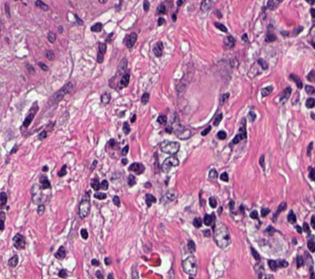nucleus: (48, 81, 74, 104), (213, 223, 230, 247), (160, 140, 179, 154), (79, 191, 89, 217), (182, 256, 196, 274), (174, 124, 190, 139), (162, 156, 178, 171), (273, 202, 285, 220), (118, 71, 129, 89), (289, 74, 302, 88), (125, 32, 136, 48), (97, 43, 106, 62), (280, 87, 291, 102), (117, 58, 126, 74), (129, 163, 143, 173), (153, 41, 162, 56), (224, 35, 234, 48), (40, 175, 50, 188), (55, 246, 65, 258), (261, 86, 272, 96), (101, 92, 110, 104), (146, 194, 155, 206), (257, 59, 267, 69), (208, 169, 217, 180), (204, 214, 213, 225), (213, 113, 221, 125), (91, 178, 99, 190), (251, 248, 259, 260), (265, 32, 275, 41), (45, 50, 54, 60), (268, 260, 277, 270), (47, 31, 55, 42), (58, 165, 66, 176), (127, 175, 135, 186), (287, 211, 295, 222), (94, 192, 106, 199), (157, 115, 166, 124), (201, 126, 210, 135), (265, 226, 274, 235), (38, 62, 48, 70), (193, 217, 201, 227), (307, 70, 314, 81), (188, 240, 195, 251), (296, 256, 303, 267), (276, 260, 287, 267), (258, 273, 273, 278), (305, 85, 313, 94), (217, 131, 226, 139), (220, 172, 228, 181), (141, 93, 148, 103), (306, 97, 313, 107), (121, 145, 128, 155), (209, 197, 216, 207), (37, 204, 44, 214), (80, 229, 87, 239), (123, 122, 129, 133), (308, 240, 314, 251), (307, 142, 312, 155), (58, 269, 66, 277), (248, 112, 255, 121), (39, 130, 46, 139), (100, 180, 107, 189), (309, 168, 314, 180), (113, 196, 119, 206), (303, 223, 309, 233), (132, 266, 137, 278), (261, 208, 269, 215), (250, 210, 257, 218), (95, 271, 103, 278), (222, 93, 228, 102), (91, 160, 96, 170), (106, 33, 112, 41), (260, 155, 264, 167), (295, 225, 301, 233), (104, 257, 110, 264), (91, 259, 98, 265), (311, 215, 314, 228), (242, 34, 247, 41), (109, 139, 114, 146), (166, 127, 172, 132), (131, 114, 135, 121), (119, 111, 124, 116), (42, 166, 47, 171), (204, 230, 209, 235), (108, 273, 113, 278), (122, 158, 126, 164), (230, 201, 233, 208), (311, 113, 314, 119)
